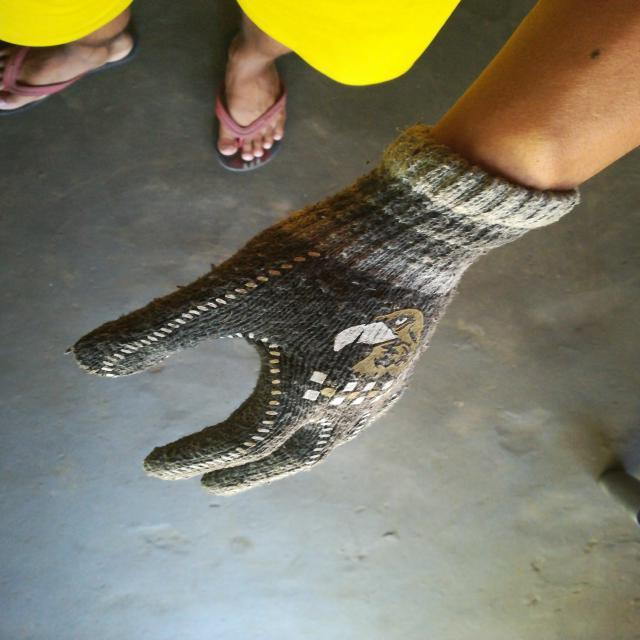gloved_hand: (67, 116, 587, 502)
